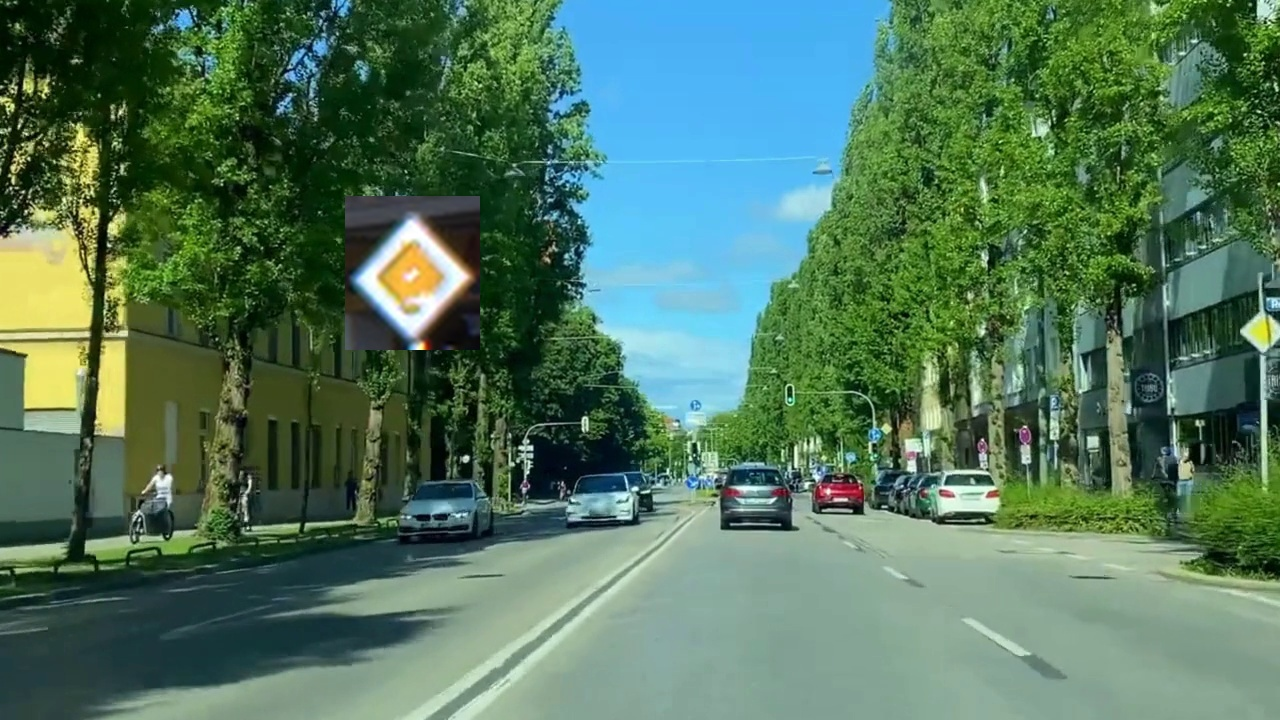Priority road: (345, 196, 480, 350)
